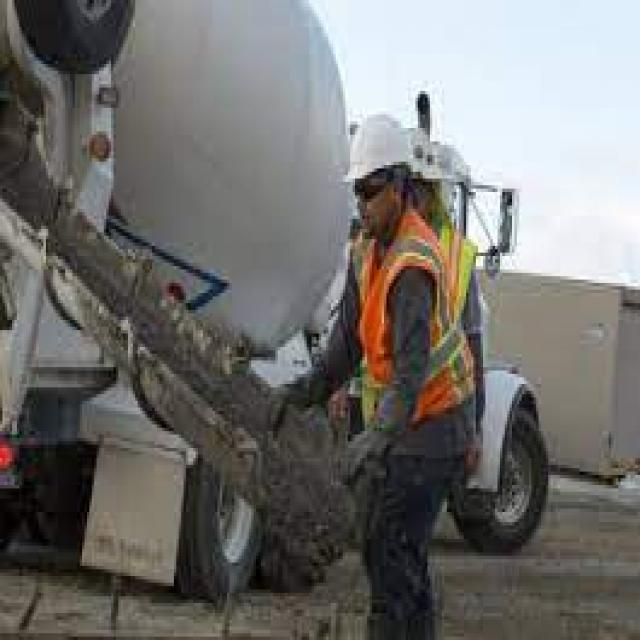Reflective-Jacket: (328, 216, 491, 448)
Safety-Helmet: (333, 101, 425, 199)
